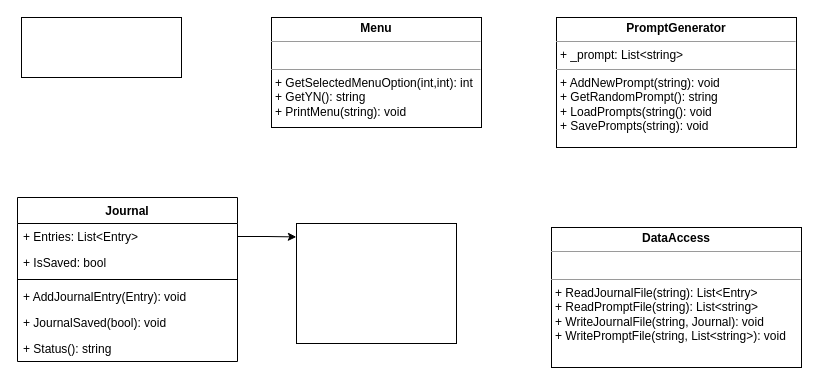
Image size: 819x385. Some labels were removed from this diagram. The centre of each missing label's shape, as x and y in pixels:
Entry + Date: string + Prompt: string + Response: string + Display(): string: the point at 376,283
Program + Main(string[ ]): void: the point at 101,47
